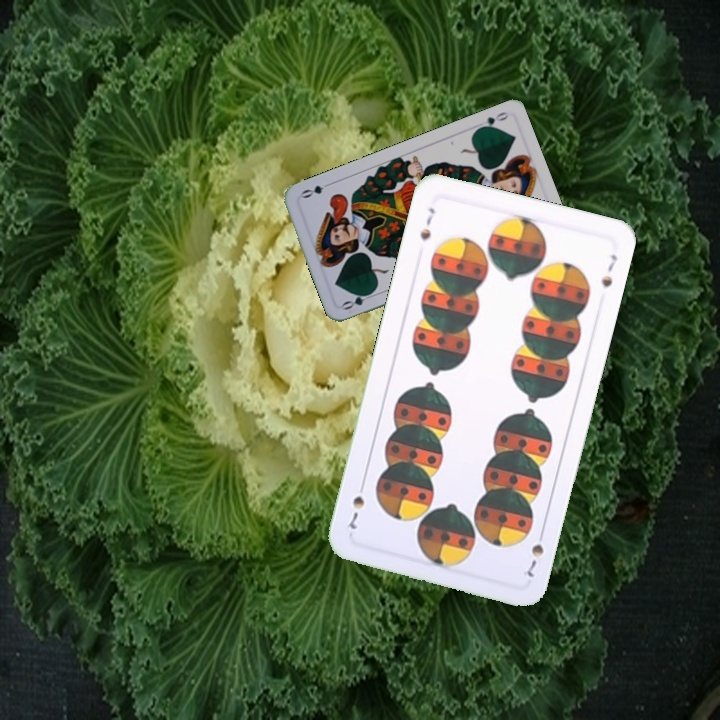GO: (338, 287, 378, 313), (473, 108, 511, 133)
S7: (522, 525, 547, 580), (415, 203, 438, 243)
